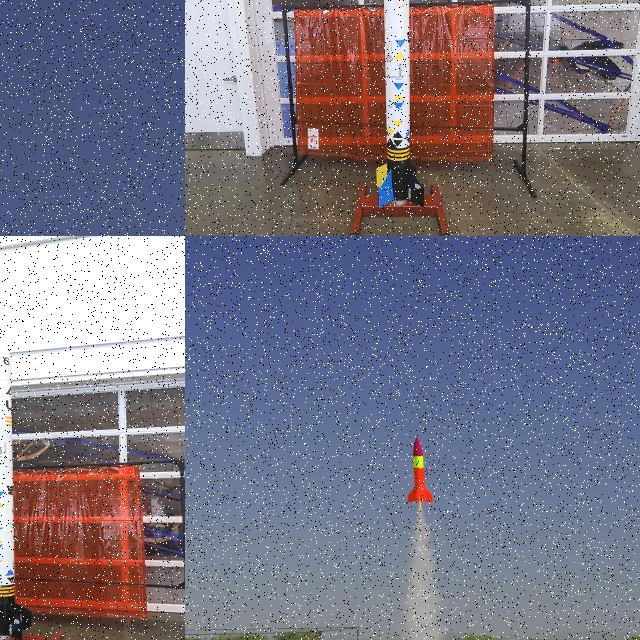Rocket: (0, 321, 32, 640), (376, 0, 424, 209), (406, 436, 435, 504)
